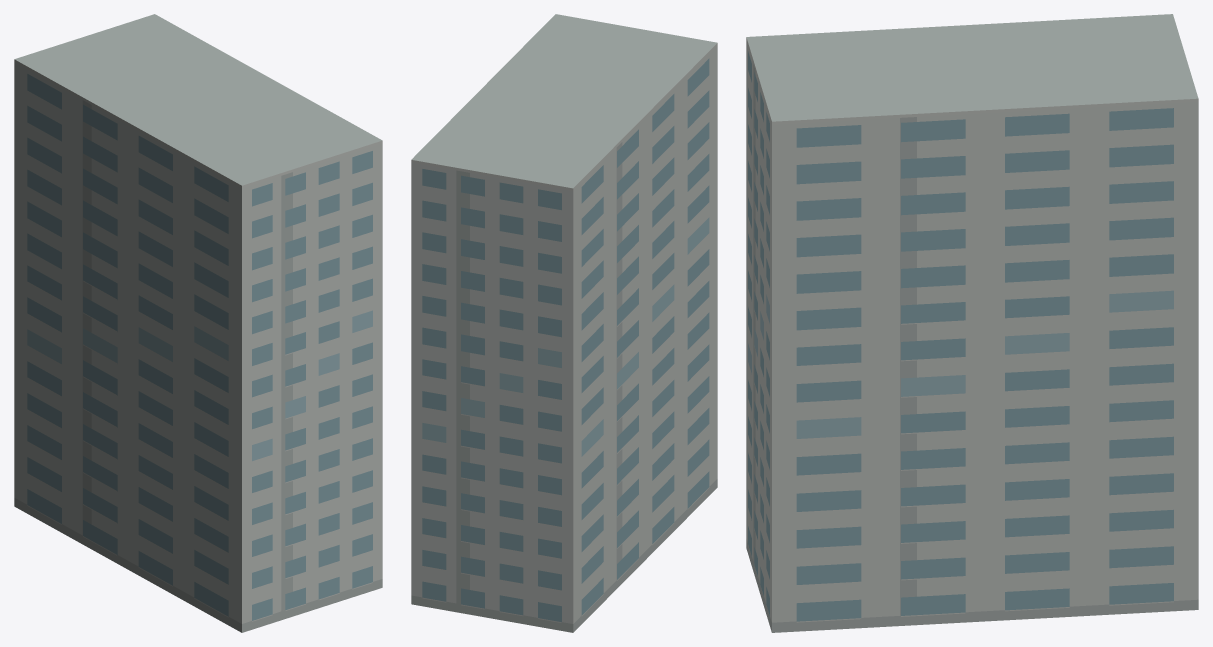
File: residential-86557c3f-7bb0-44bc-8272-b14027f8ac1a.glb
3 renders of one model, left to right at view 1: azimuth 30°, elevation 25°; view 2: azimuth 150°, elevation 25°; view 3: azimuth 270°, elevation 25°, orthographic. The views are drawn at different scales.
Parts seen in each view (by area): view 1: residential-86557c3f-7bb0-44bc-8272-b14027f8ac1a.tmp; view 2: residential-86557c3f-7bb0-44bc-8272-b14027f8ac1a.tmp; view 3: residential-86557c3f-7bb0-44bc-8272-b14027f8ac1a.tmp.
Boxes of the visible parts, x1,y1,x2,y2 form: residential-86557c3f-7bb0-44bc-8272-b14027f8ac1a.tmp: (14,14,382,632); residential-86557c3f-7bb0-44bc-8272-b14027f8ac1a.tmp: (411,14,717,632); residential-86557c3f-7bb0-44bc-8272-b14027f8ac1a.tmp: (746,14,1198,632).
Bounding box in the file's own units: 18.08 × 40 × 32.07.
